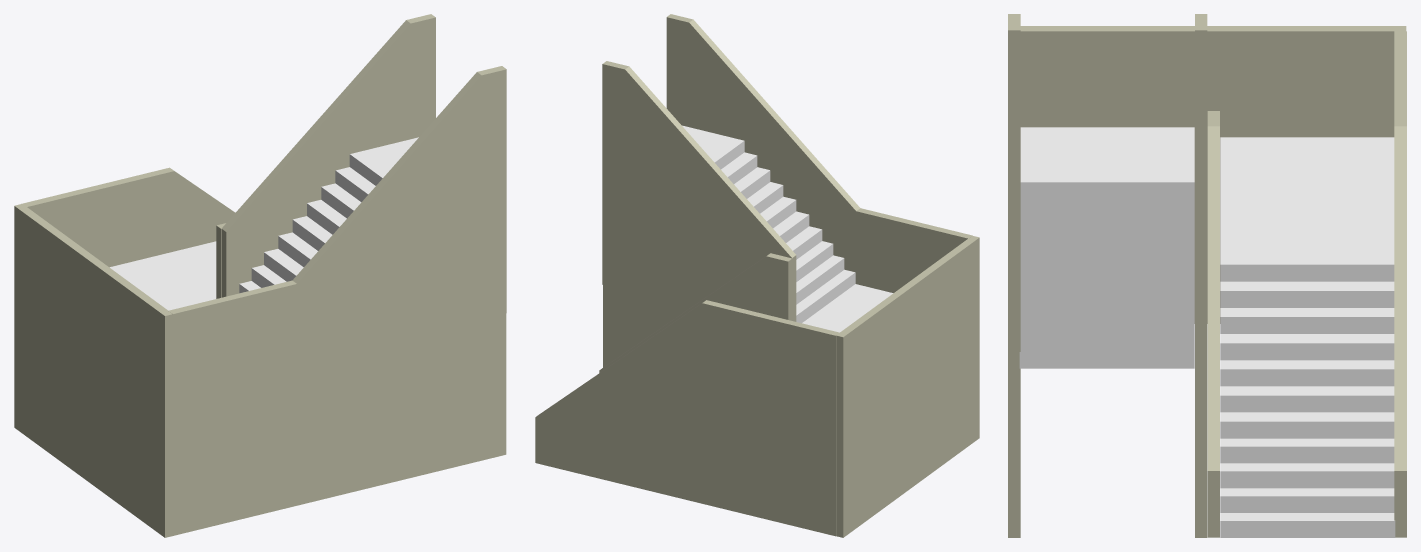
The model's file is stair.fbx.
3 views of the same model, side by side, from view 1: azimuth 30°, elevation 25°; view 2: azimuth 150°, elevation 25°; view 3: azimuth 270°, elevation 25° (orthographic). The views are drawn at different scales.
Parts seen in each view (by area): view 1: Cube.008, Cube.009, Cube.011, Cube.007, Cube.021, Cube.016, Cube.032, Cube.031, Cube.028, Cube.030, Cube.027, Cube.029 (+1 smaller); view 2: Cube.007, Cube.011, Cube.009, Cube.008, Cube.006, Cube.022, Cube.023, Cube.032, Cube.024, Cube.025, Cube.026, Cube.031 (+4 smaller); view 3: Cube.032, Cube.009, Cube.021, Cube.016, Cube.011, Cube.008, Cube.007, Cube.006, Cube.005, Cube.001, Cube.012, Cube.013 (+6 smaller).
Boxes of the visible parts, bbox=[...] form: Cube.008: bbox=[168, 66, 506, 535]; Cube.009: bbox=[14, 204, 172, 537]; Cube.011: bbox=[221, 14, 435, 297]; Cube.007: bbox=[22, 167, 235, 267]; Cube.021: bbox=[109, 256, 211, 310]; Cube.016: bbox=[153, 241, 216, 299]; Cube.032: bbox=[349, 137, 418, 185]; Cube.031: bbox=[335, 167, 375, 201]; Cube.028: bbox=[292, 216, 332, 250]; Cube.030: bbox=[321, 183, 361, 218]; Cube.027: bbox=[278, 232, 317, 267]; Cube.029: bbox=[307, 200, 346, 234]; Cube.007: bbox=[535, 300, 839, 536]; Cube.011: bbox=[602, 61, 796, 367]; Cube.009: bbox=[836, 235, 979, 537]; Cube.008: bbox=[666, 14, 972, 292]; Cube.006: bbox=[599, 253, 792, 372]; Cube.022: bbox=[802, 284, 893, 332]; Cube.023: bbox=[796, 269, 855, 323]; Cube.032: bbox=[682, 125, 744, 169]; Cube.024: bbox=[796, 255, 844, 304]; Cube.025: bbox=[796, 241, 833, 281]; Cube.026: bbox=[786, 226, 822, 259]; Cube.031: bbox=[721, 152, 757, 183]; Cube.032: bbox=[1019, 127, 1194, 368]; Cube.009: bbox=[1020, 26, 1406, 323]; Cube.021: bbox=[1220, 137, 1394, 218]; Cube.016: bbox=[1220, 218, 1394, 281]; Cube.011: bbox=[1195, 14, 1207, 537]; Cube.008: bbox=[1008, 14, 1020, 537]; Cube.007: bbox=[1394, 31, 1406, 537]; Cube.006: bbox=[1207, 111, 1219, 537]; Cube.005: bbox=[1220, 412, 1394, 438]; Cube.001: bbox=[1220, 386, 1394, 412]; Cube.012: bbox=[1220, 360, 1394, 386]; Cube.013: bbox=[1220, 334, 1394, 360].
Bounding box in the file's own units: 1671 × 1801 × 1281.
